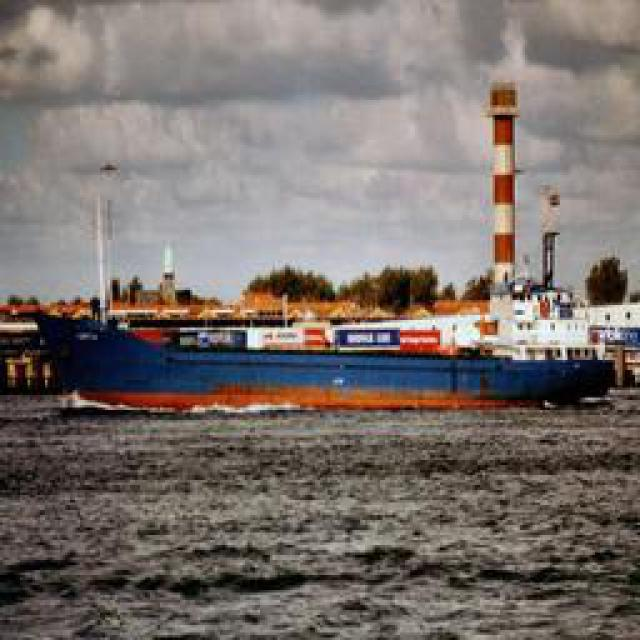Ship: (55, 318, 618, 413)
